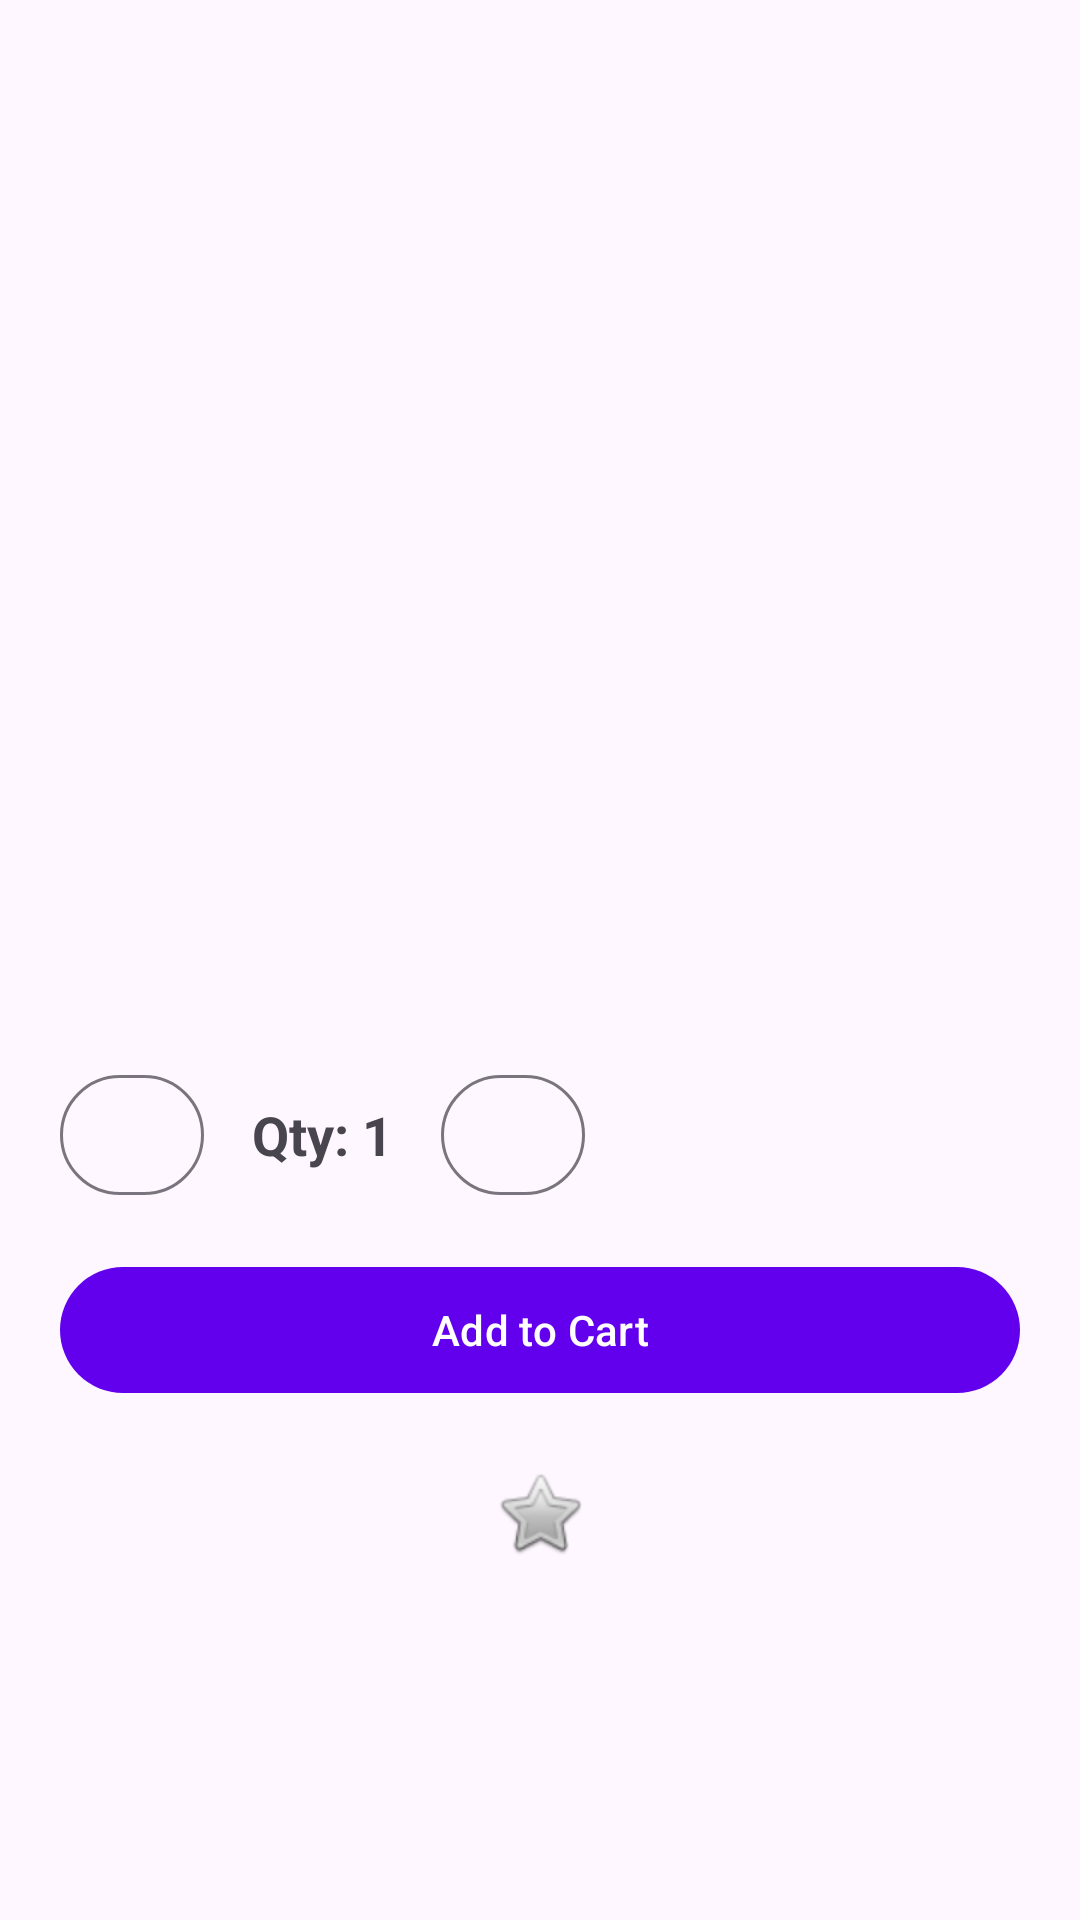

Where to tap for icons on this 1080 × 1920 app screen, as [x,y]:
Favorite: [541,1514]
